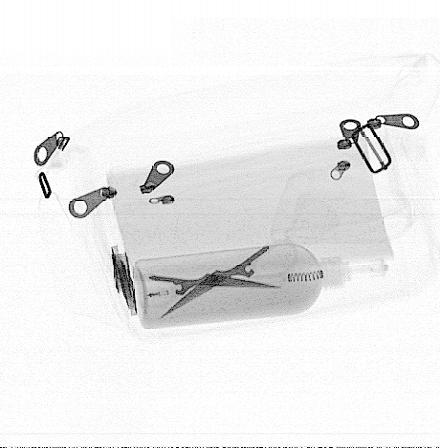Scissors: (127, 239, 301, 320)
